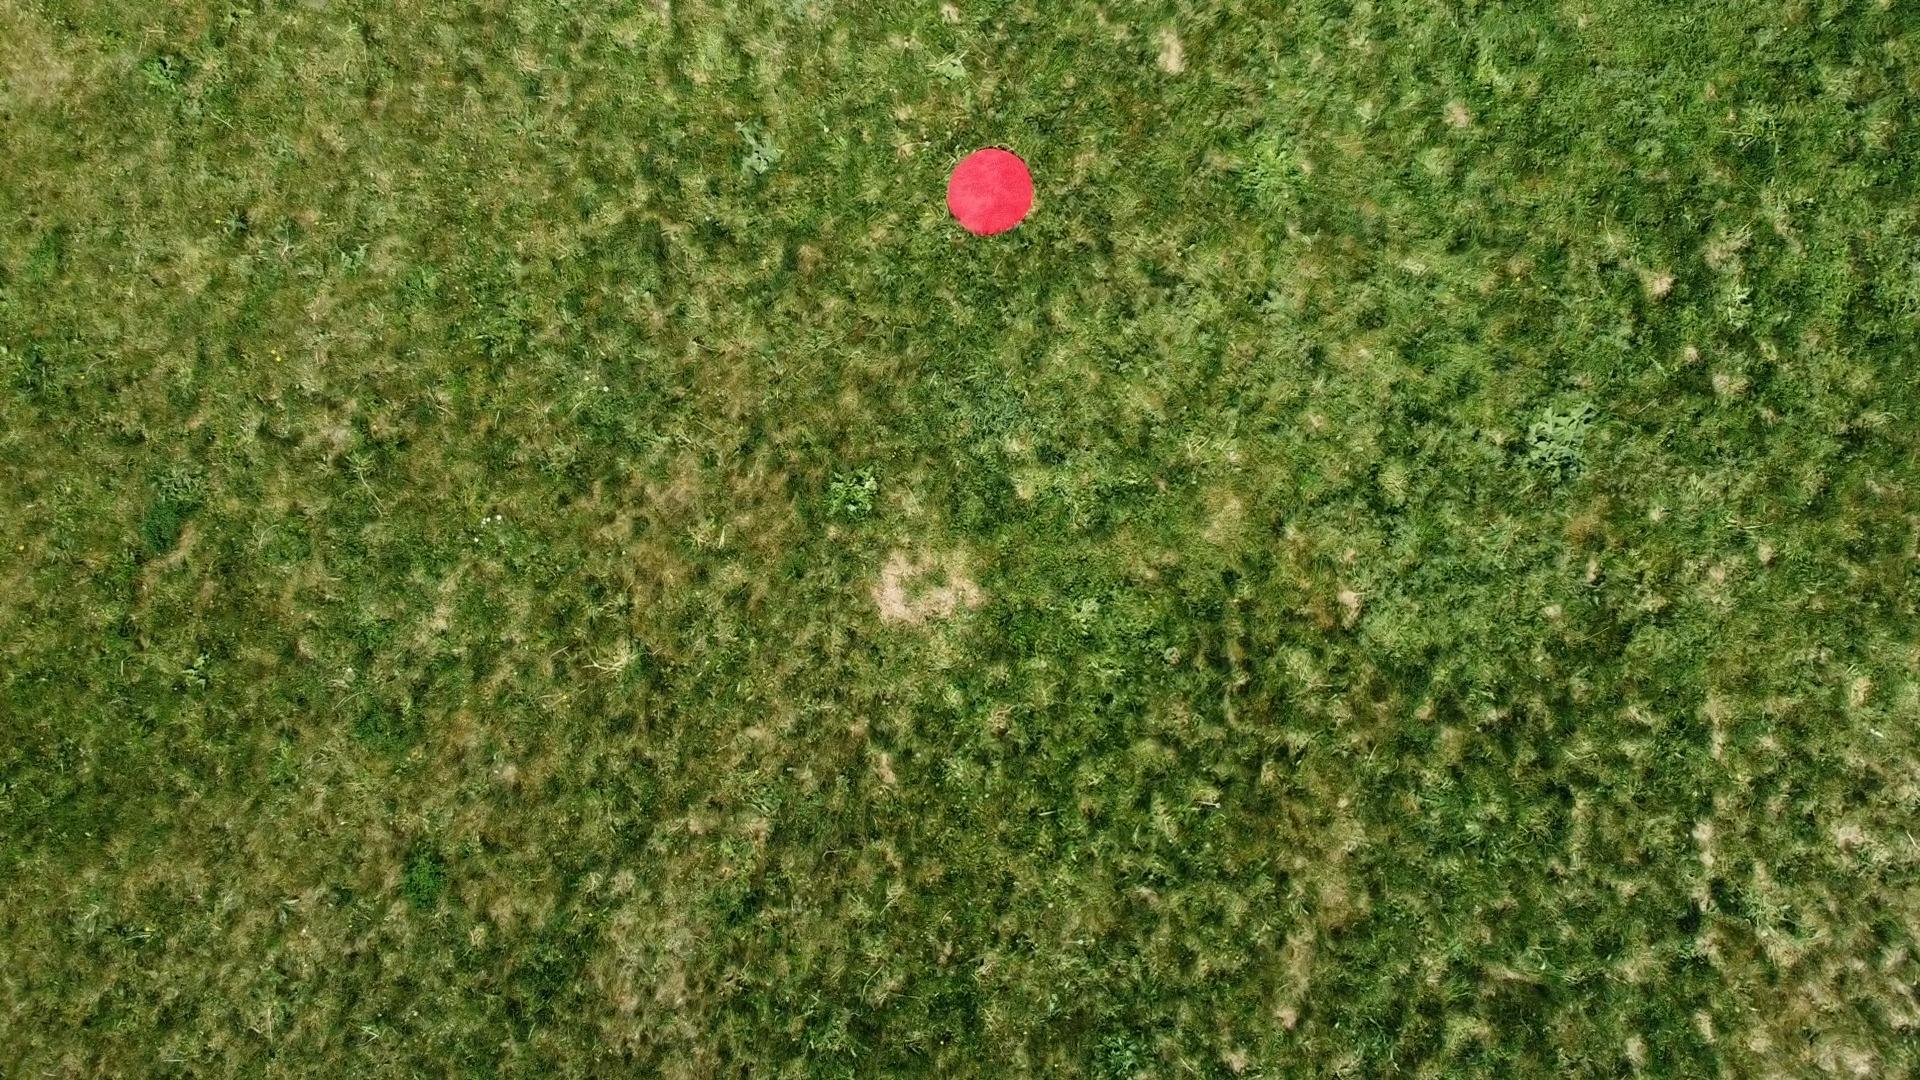Red: (947, 144, 1038, 239)
